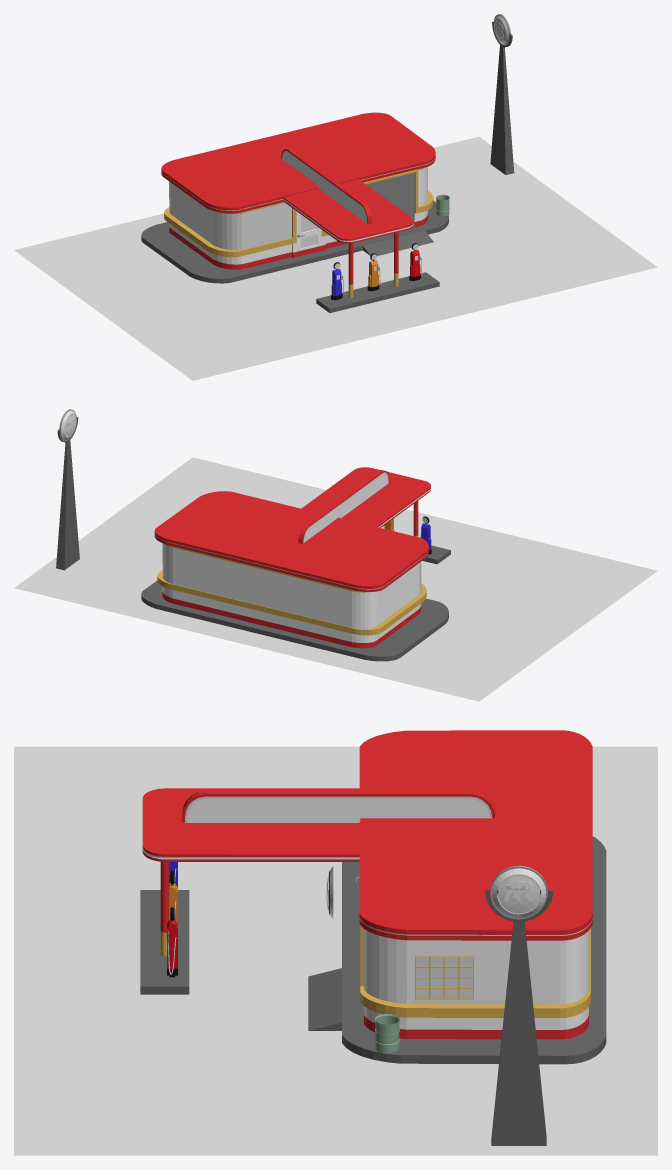
The model's file is Gas_Station_upd_final.fbx.
3 renders of one model, top to bottom at view 1: azimuth 30°, elevation 25°; view 2: azimuth 150°, elevation 25°; view 3: azimuth 270°, elevation 25°, orthographic. The views are drawn at different scales.
Visible parts, largest first — view 1: FLOOR, GAS_STATION, GAS_STATION.001, ROOF_OF_GASOLINE_DISPENCERS, SHIT_UNDER_BIG_ROAD_SIGN, SHIT_UNDER_OIL_STUFF, PART_OF_ROOF, COLOUMNS; view 2: FLOOR, GAS_STATION, GAS_STATION.001, ROOF_OF_GASOLINE_DISPENCERS, SHIT_UNDER_BIG_ROAD_SIGN, PART_OF_ROOF; view 3: FLOOR, GAS_STATION, GAS_STATION.001, ROOF_OF_GASOLINE_DISPENCERS, PART_OF_ROOF, SHIT_UNDER_BIG_ROAD_SIGN, SHIT_UNDER_OIL_STUFF, Big_road_sign, BOCHKA_GOVNA, COLOUMNS, Gasoline_pistol.
Part boxes in pixels (bbox=[...]): FLOOR: bbox=[14, 136, 657, 380]; GAS_STATION: bbox=[161, 112, 435, 269]; GAS_STATION.001: bbox=[141, 200, 448, 283]; ROOF_OF_GASOLINE_DISPENCERS: bbox=[283, 179, 413, 243]; SHIT_UNDER_BIG_ROAD_SIGN: bbox=[490, 21, 514, 174]; SHIT_UNDER_OIL_STUFF: bbox=[316, 272, 439, 312]; PART_OF_ROOF: bbox=[281, 148, 371, 224]; COLOUMNS: bbox=[348, 232, 398, 297]; FLOOR: bbox=[14, 457, 657, 701]; GAS_STATION: bbox=[154, 491, 428, 648]; GAS_STATION.001: bbox=[141, 580, 448, 661]; ROOF_OF_GASOLINE_DISPENCERS: bbox=[301, 467, 430, 527]; SHIT_UNDER_BIG_ROAD_SIGN: bbox=[56, 416, 79, 570]; PART_OF_ROOF: bbox=[298, 470, 389, 543]; FLOOR: bbox=[14, 746, 657, 1155]; GAS_STATION: bbox=[356, 730, 592, 1039]; GAS_STATION.001: bbox=[308, 836, 606, 1064]; ROOF_OF_GASOLINE_DISPENCERS: bbox=[142, 788, 359, 861]; PART_OF_ROOF: bbox=[182, 790, 494, 822]; SHIT_UNDER_BIG_ROAD_SIGN: bbox=[485, 889, 553, 1145]; SHIT_UNDER_OIL_STUFF: bbox=[140, 890, 189, 994]; Big_road_sign: bbox=[490, 865, 547, 918]; BOCHKA_GOVNA: bbox=[375, 1014, 399, 1053]; COLOUMNS: bbox=[160, 861, 168, 956]; Gasoline_pistol: bbox=[166, 907, 177, 977].
Bounding box in the file's own units: 3550 × 1126 × 2362.
